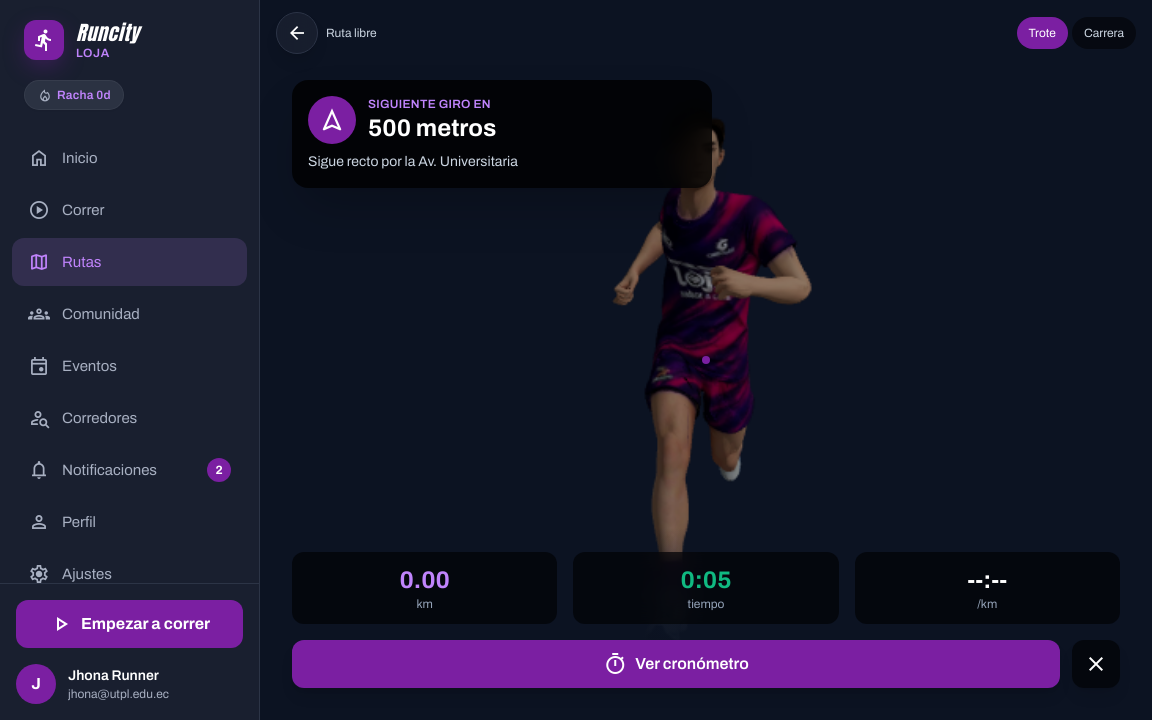
Test: rutas › cerrar la navegacion con tiempo lleva al resumen
Click the button named "Terminar navegación".
click(1096, 664)  # box left=1072, top=640, right=1120, bottom=688
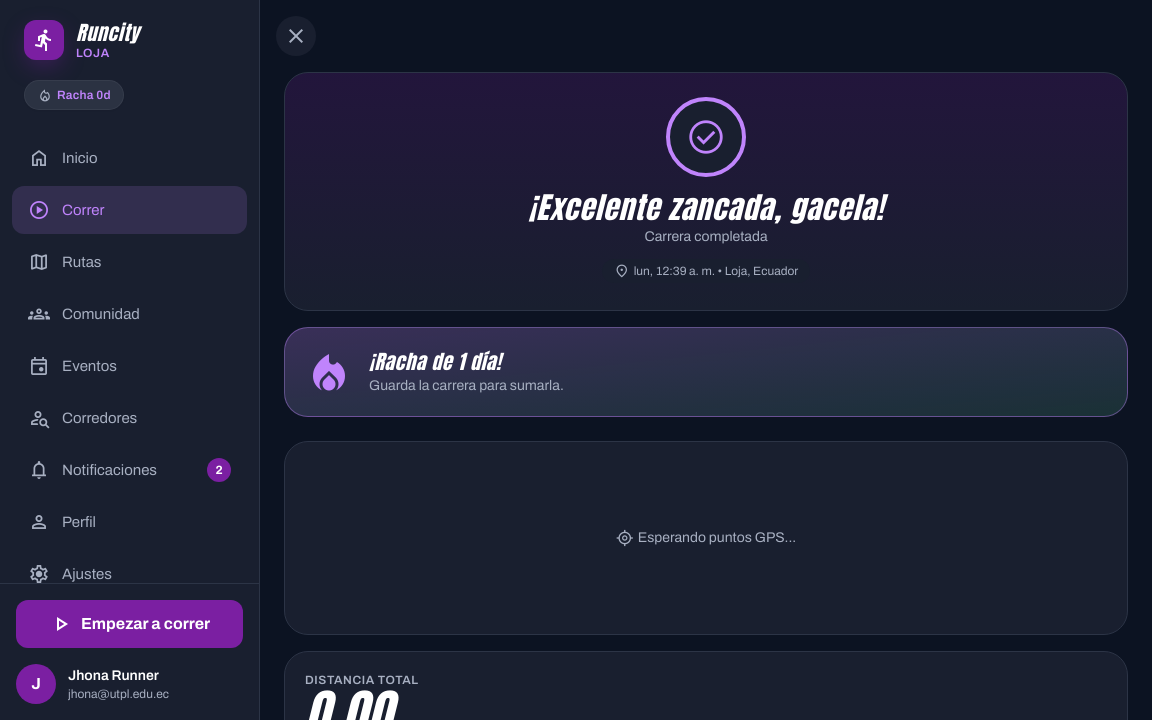
Result: the text "Carrera completada" is shown at left=644, top=229, right=768, bottom=244
